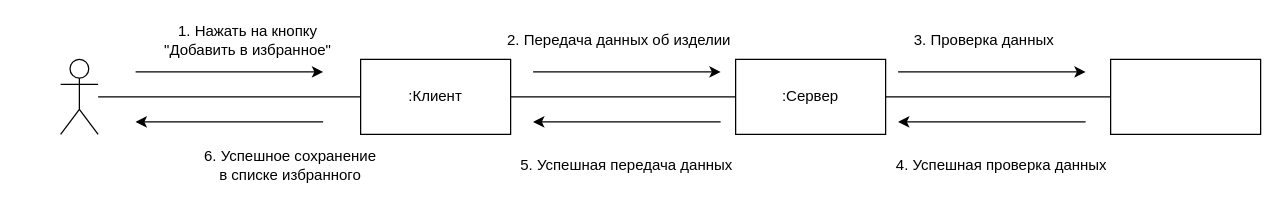
The diagram is 1283 pixels wide and 205 high, and some of its shapes have lost their labels. The centre of each missing label's shape, as x and y in pixels:
:База данных: [1185,96]
Авторизованный пользователь: [78,96]
